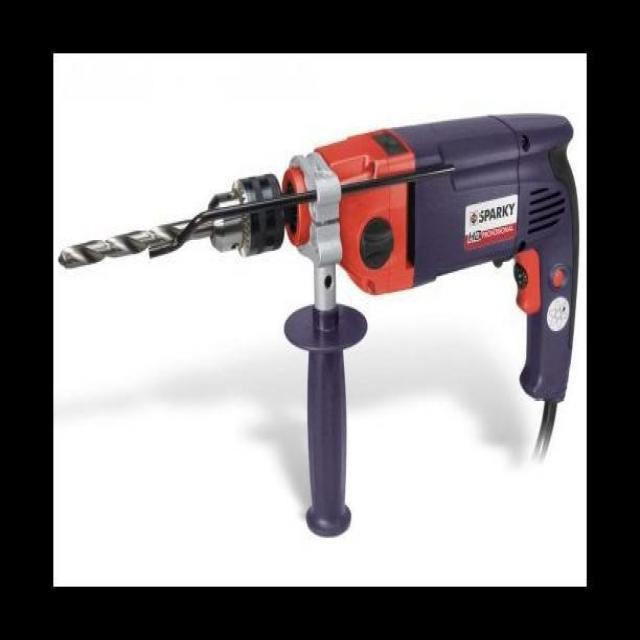drill: (58, 114, 580, 540)
